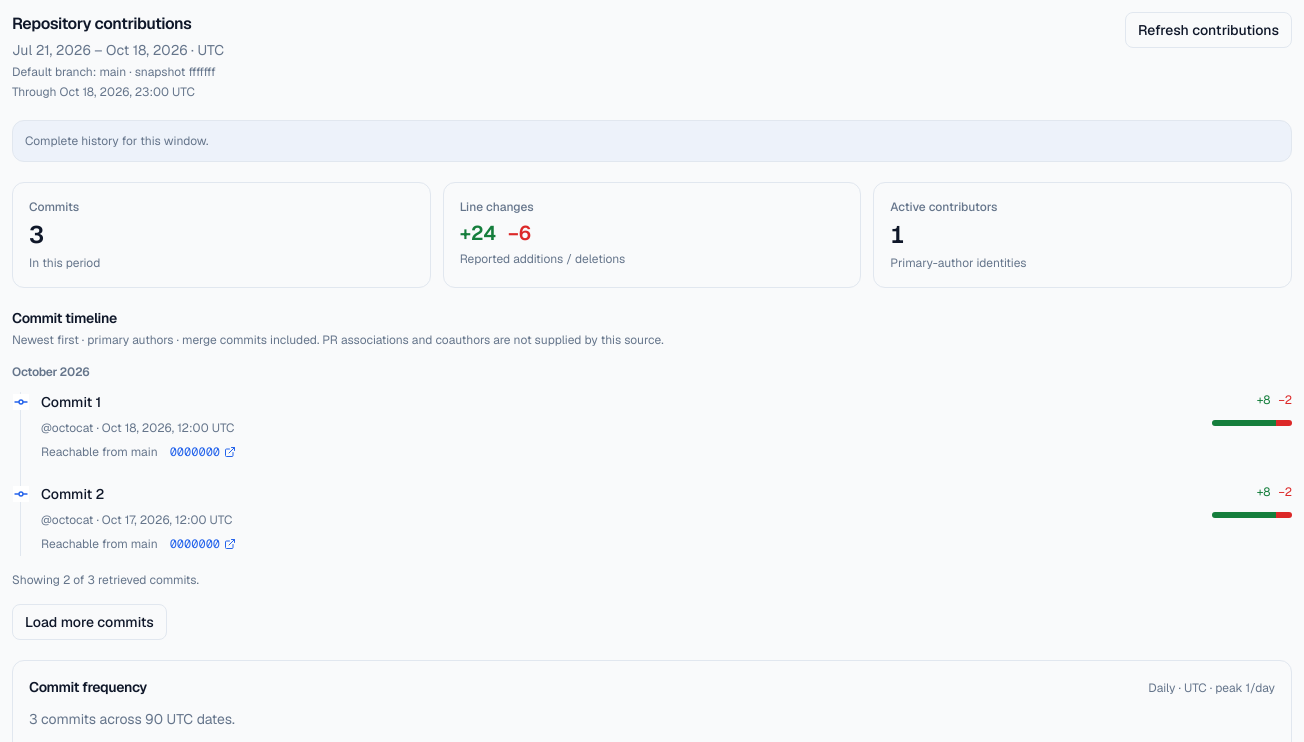
loads overlapping pages once, groups months newest first, and never changes summary totals when appending
The image size is (1304, 742).
Expected: the text "Commit 1" is shown, [41,393,101,411]
Step 1. Click the button "Load more commits" → [89, 622], box [12,604,167,640]
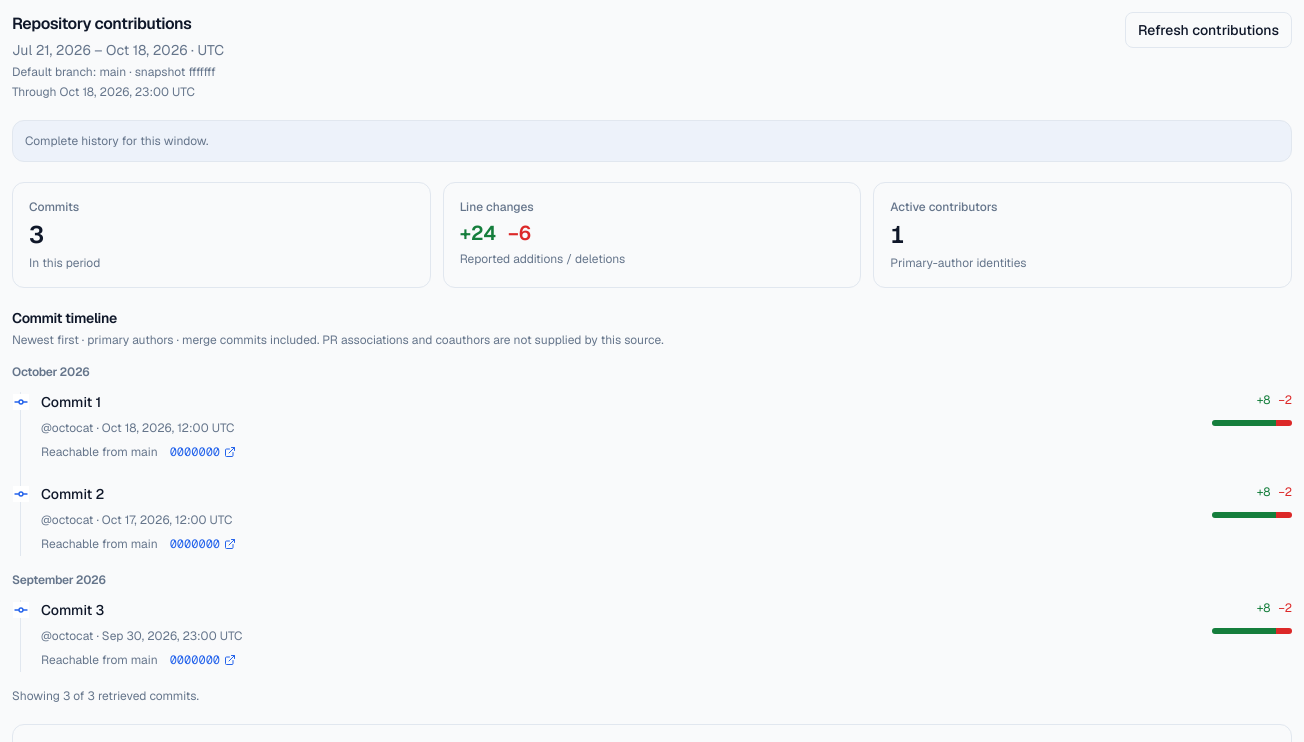
Expected: the text "Commit 3" is shown, [41,601,104,619]
Expected: the headings read "October 2026", "September 2026", in this order, [12,364,89,380]; [12,572,106,588]
Expected: the text "Showing 3 of 3 retrieved commits." is shown, [12,688,199,704]
